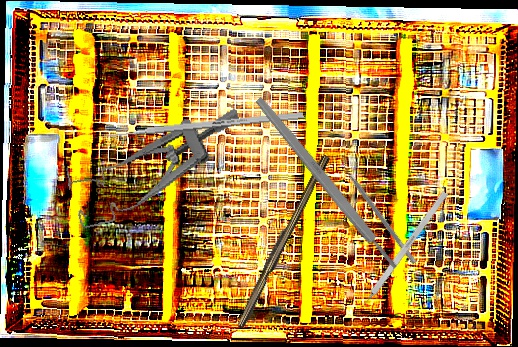Hook Surgical: (353, 190, 449, 319)
Pusher: (91, 110, 304, 142)
Scalpel Handle: (253, 95, 400, 272), (233, 151, 331, 331)
Spatula Surgical: (337, 158, 422, 265)
Speculum: (59, 105, 257, 232)
